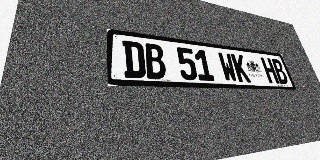1: (193, 49, 215, 81)
5: (176, 47, 199, 80)
B: (144, 43, 167, 79), (270, 59, 289, 84)
D: (122, 40, 146, 78)
H: (260, 57, 280, 84)
K: (230, 54, 251, 83)
W: (217, 52, 238, 82)
